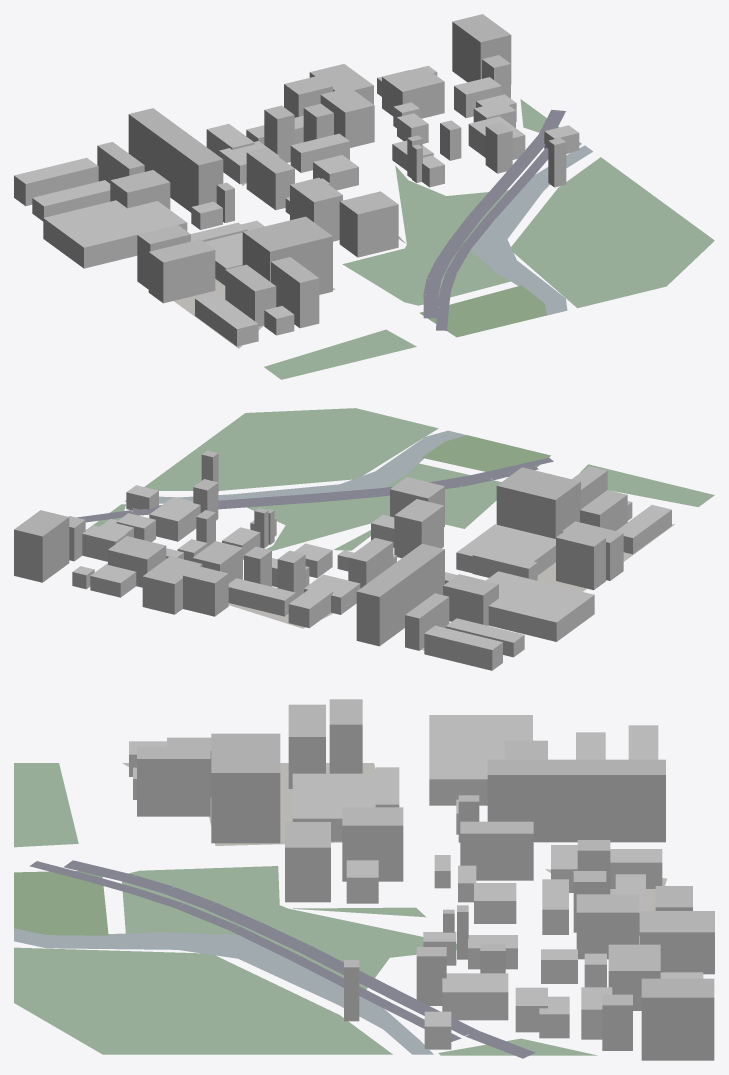
The model's file is 121_112_mid.glb.
3 views of the same model, one above another, from view 1: azimuth 30°, elevation 25°; view 2: azimuth 150°, elevation 25°; view 3: azimuth 270°, elevation 25° (orthographic). The views are drawn at different scales.
Size of the model in its own units: 554 by 57.76 by 509.
